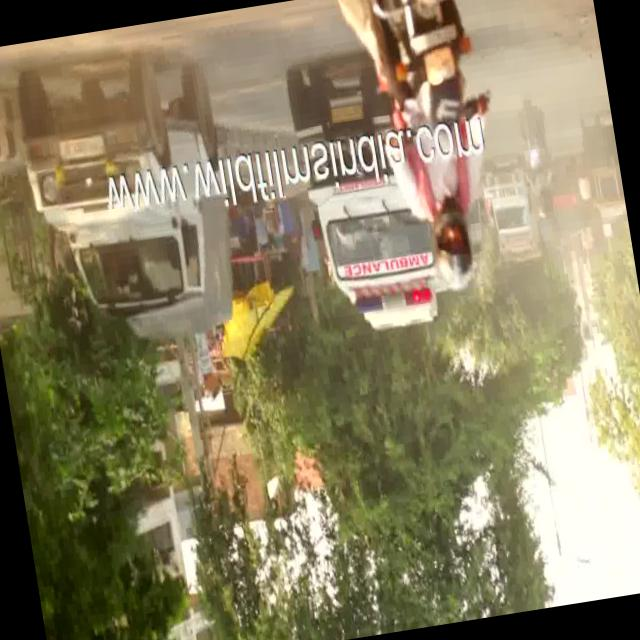ambulance: (304, 182, 474, 354)
